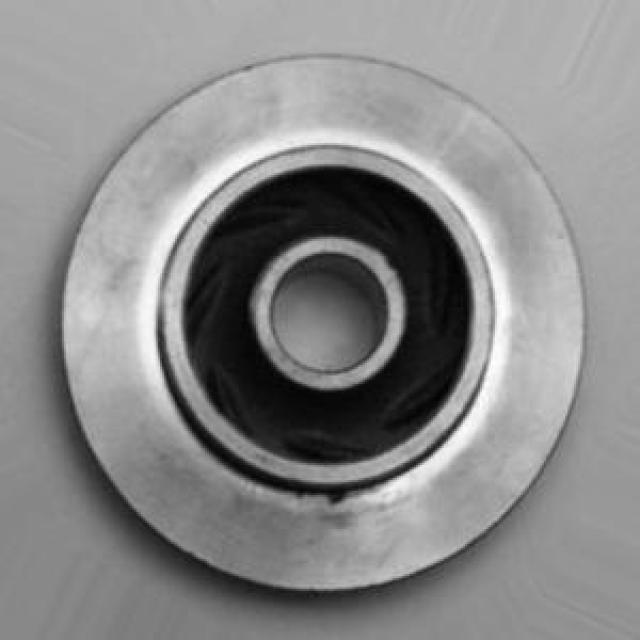Defect: (314, 476, 360, 514)
